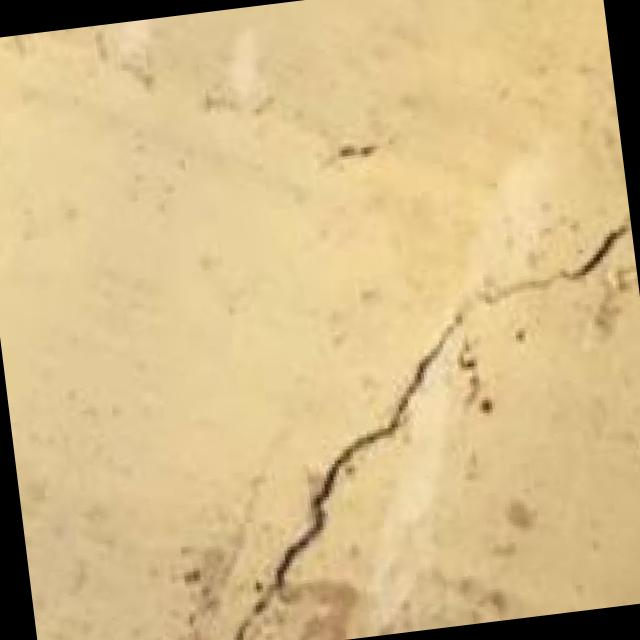crack: (165, 183, 640, 640)
